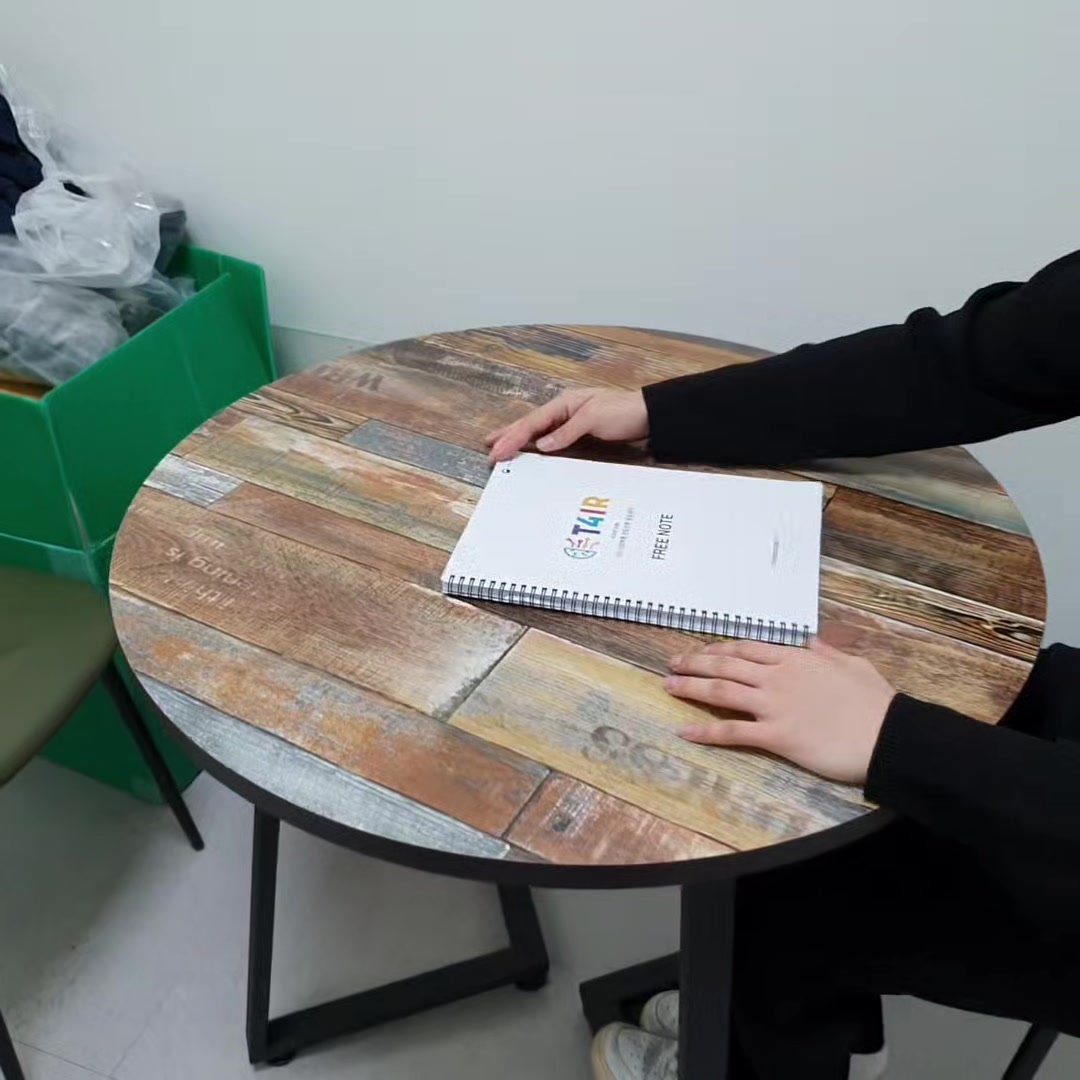book: (439, 437, 846, 648)
